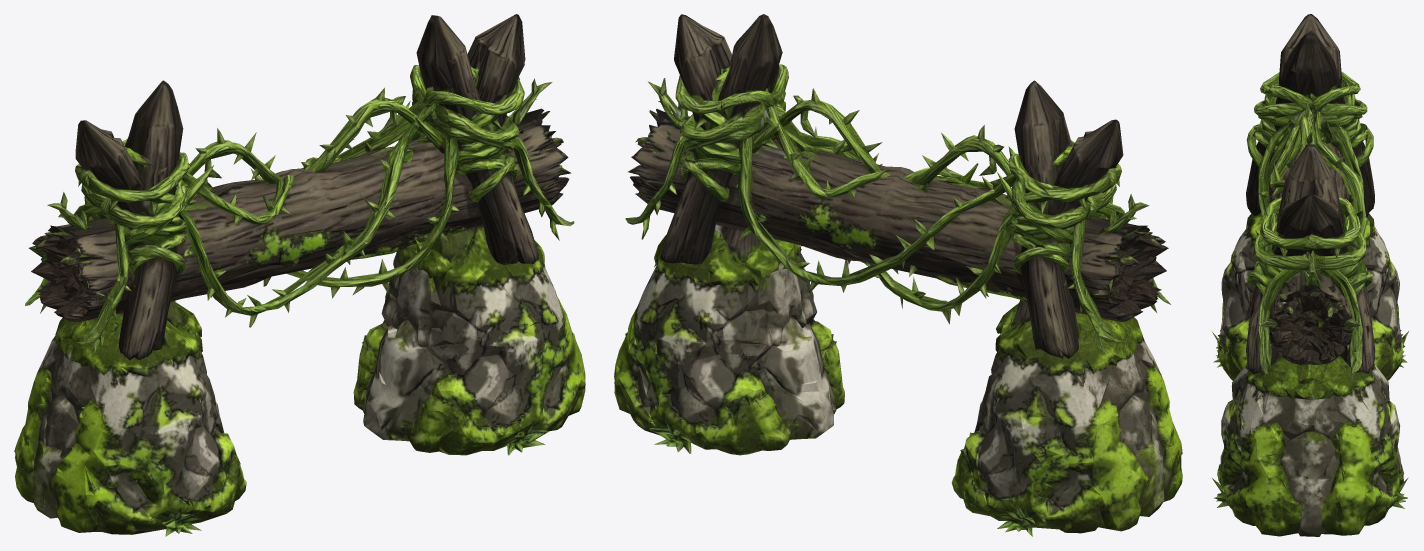
Rendered from StakedLog.fbx.
3 views of the same model, side by side, from view 1: azimuth 30°, elevation 25°; view 2: azimuth 150°, elevation 25°; view 3: azimuth 270°, elevation 25° (orthographic). The views are drawn at different scales.
Parts seen in each view (by area): view 1: StakedLog; view 2: StakedLog; view 3: StakedLog.
Part boxes in pixels (box(x1,y1,x2,y2)): StakedLog: box(14, 14, 585, 536); StakedLog: box(614, 14, 1182, 536); StakedLog: box(1212, 14, 1408, 536).
Bounding box in the file's own units: 2 × 1.48 × 0.7716.
1 material, 1 textured.
